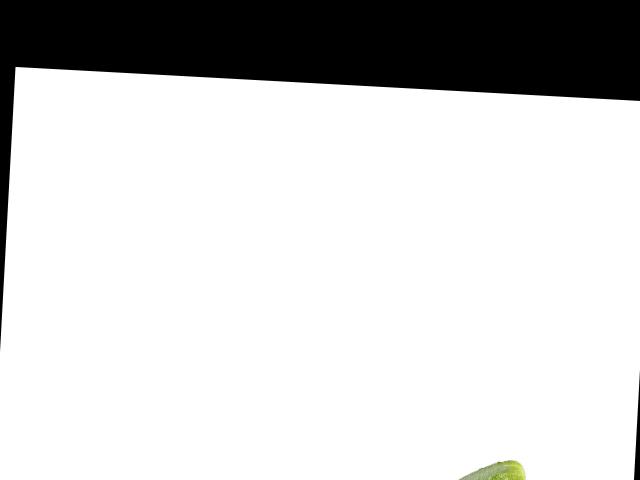cucumber: (438, 457, 526, 480)
